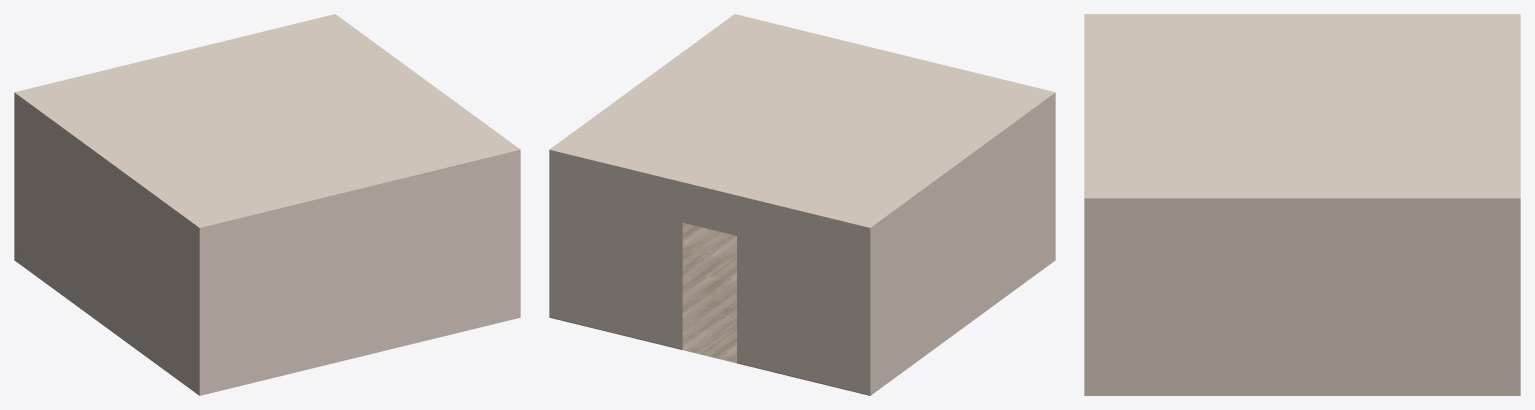
File: Orange_Chair.fbx
The picture shows the model from 3 angles, left to right: view 1: azimuth 30°, elevation 25°; view 2: azimuth 150°, elevation 25°; view 3: azimuth 270°, elevation 25°; orthographic projection. The views are drawn at different scales.
Visible parts, largest first — view 1: Chair_Leg_5; view 2: Chair_Leg_5; view 3: Chair_Leg_5.
Part boxes in pixels (x1=…): Chair_Leg_5: x1=14, y1=14, x2=520, y2=395; Chair_Leg_5: x1=549, y1=14, x2=1055, y2=395; Chair_Leg_5: x1=1084, y1=14, x2=1520, y2=395.
Size of the model in its own units: 4 by 2 by 4.
4 materials, 1 textured.
